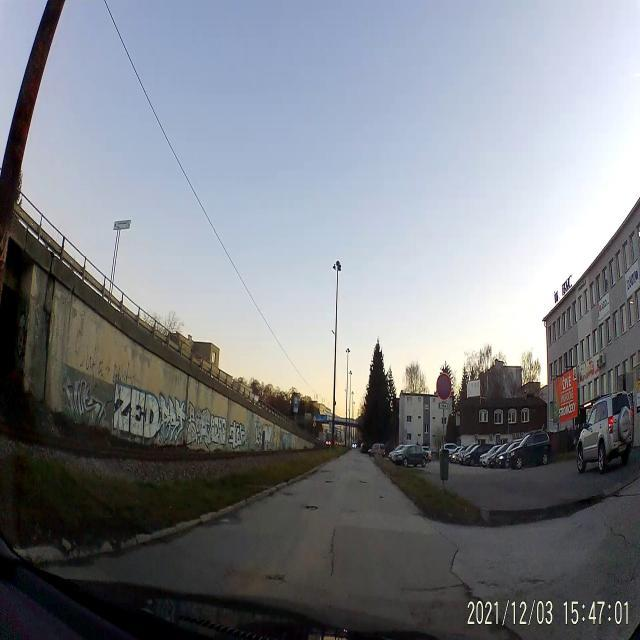Pothole: (266, 568, 286, 588), (304, 502, 320, 516)
